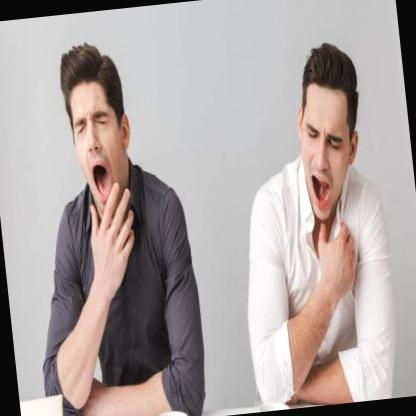2: (87, 158, 116, 206)
closed: (307, 170, 337, 212)
